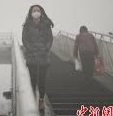person: (22, 4, 55, 114), (73, 25, 100, 84)
